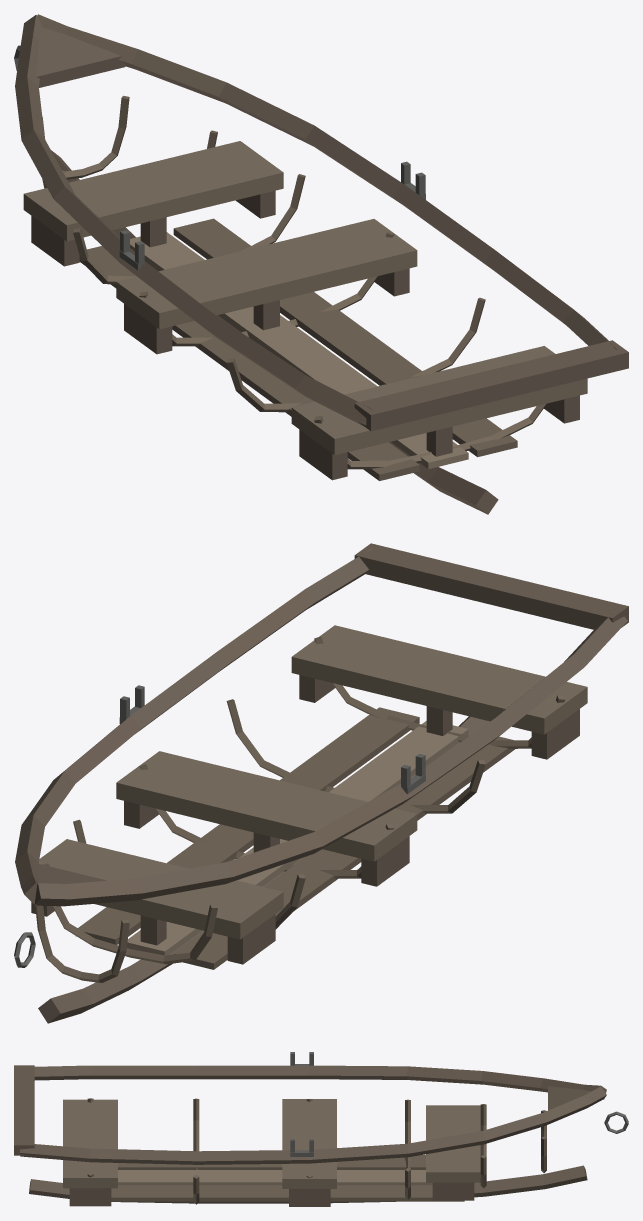
Rendered from BoatInterior.glb.
The picture shows the model from 3 angles, top to bottom: view 1: azimuth 30°, elevation 25°; view 2: azimuth 150°, elevation 25°; view 3: azimuth 270°, elevation 25°; orthographic projection. The views are drawn at different scales.
Visible parts, largest first — view 1: BoatInterior; view 2: BoatInterior; view 3: BoatInterior.
Part boxes in pixels (x1=…): BoatInterior: x1=14, y1=14, x2=628, y2=514; BoatInterior: x1=14, y1=543, x2=628, y2=1023; BoatInterior: x1=14, y1=1052, x2=628, y2=1206.
Bounding box in the file's own units: 5.76 × 3.44 × 16.27.
